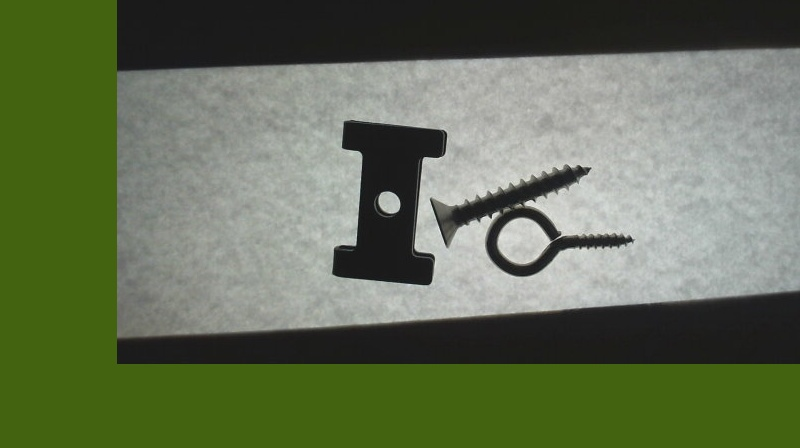O001: (483, 202, 637, 277)
O002: (329, 117, 449, 286)
S001: (427, 161, 592, 247)
